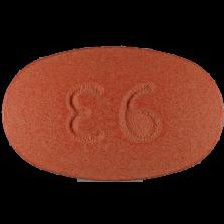0093-1122: (0, 0, 224, 224)
